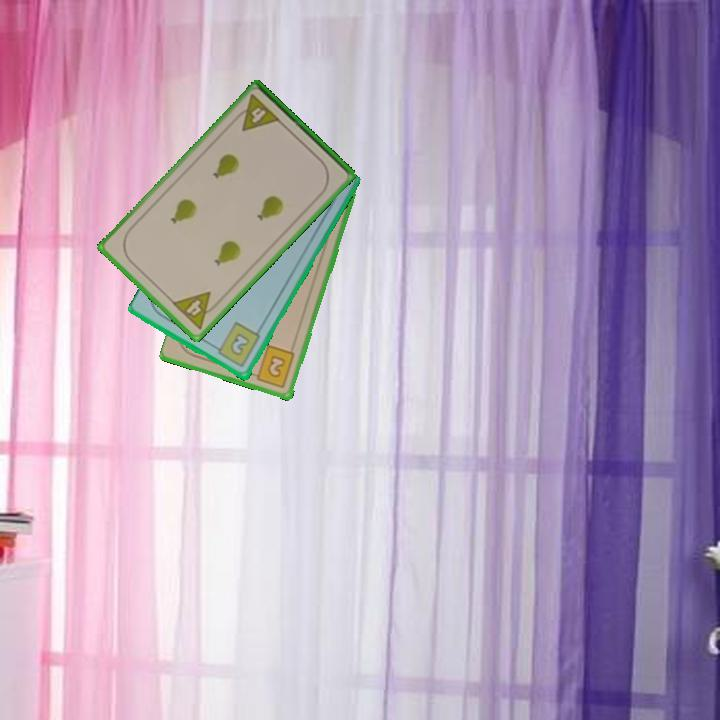2b: (210, 319, 263, 371), (248, 342, 298, 391)
4p: (168, 288, 223, 333), (230, 91, 283, 134)
